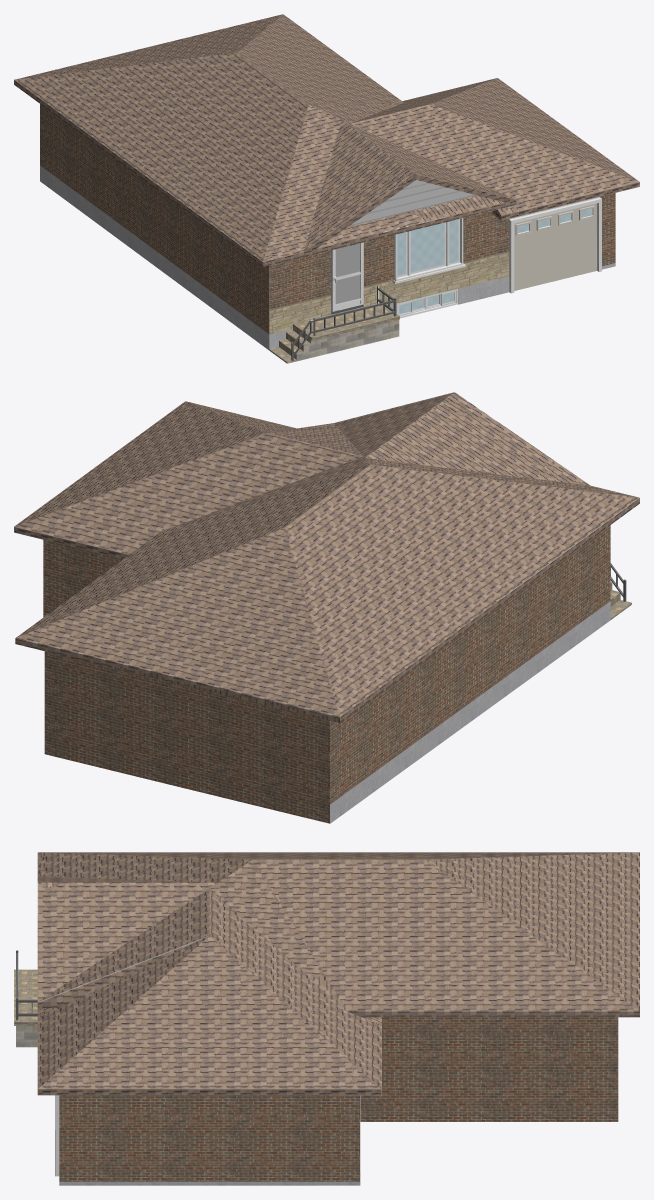
Rendered from Residential House 03.fbx.
The picture shows the model from 3 angles, top to bottom: view 1: azimuth 30°, elevation 25°; view 2: azimuth 150°, elevation 25°; view 3: azimuth 270°, elevation 25°; orthographic projection. The views are drawn at different scales.
Visible parts, largest first — view 1: Residential_House_03_LOD0; view 2: Residential_House_03_LOD0; view 3: Residential_House_03_LOD0.
Boxes of the visible parts, x1,y1,x2,y2 form: Residential_House_03_LOD0: (14,14,639,363); Residential_House_03_LOD0: (14,392,639,823); Residential_House_03_LOD0: (14,852,639,1185).
Size of what is drawn, in the model's own units: 1224 by 492 by 1455.
Materials: 1 (1 with a texture image).
